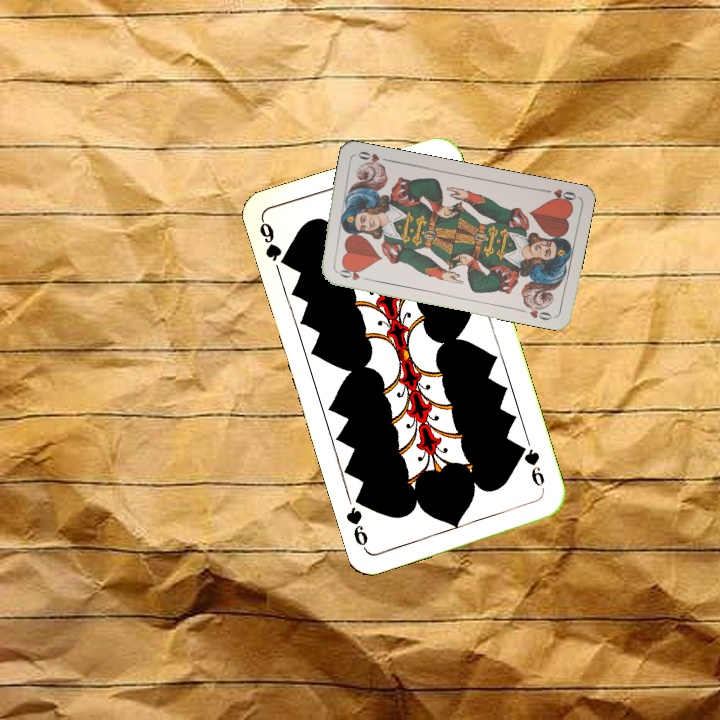G9: (255, 216, 293, 270), (515, 440, 547, 489)
HO: (539, 185, 579, 206), (331, 265, 371, 283)
